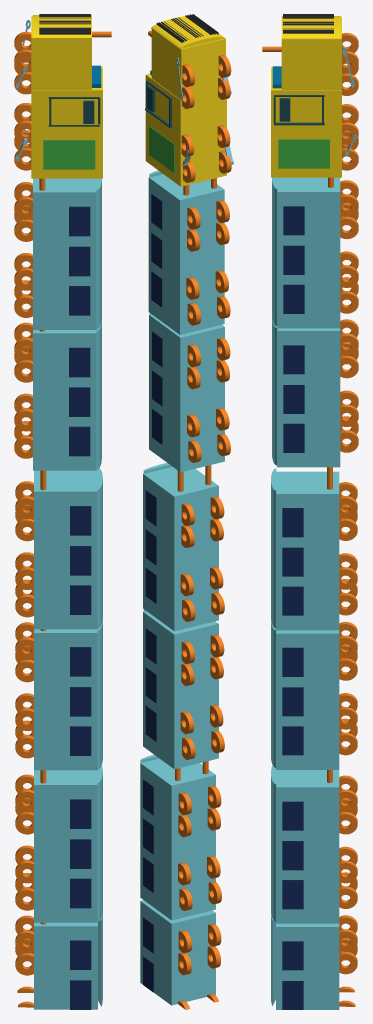
File: tinker.obj
3 renders of one model, left to right at view 1: azimuth 90°, elevation 25°; view 2: azimuth 210°, elevation 25°; view 3: azimuth 270°, elevation 25°, orthographic. The views are drawn at different scales.
Visible parts, largest first — view 1: group_0_7720667, group_0_16089887, group_0_1650274, group_0_16768282, group_0_4634441, group_0_2829873, group_0_1855578; view 2: group_0_7720667, group_0_16089887, group_0_16768282, group_0_1650274, group_0_4634441, group_0_2829873, group_0_1855578, group_0_8768998; view 3: group_0_7720667, group_0_16089887, group_0_1650274, group_0_16768282, group_0_4634441, group_0_2829873, group_0_1855578.
Part boxes in pixels (x1,y1,x2,y2): group_0_7720667: (33,178,102,1009); group_0_16089887: (14,31,111,1007); group_0_1650274: (69,206,91,1009); group_0_16768282: (31,15,102,178); group_0_4634441: (43,140,95,169); group_0_2829873: (39,14,90,34); group_0_1855578: (48,97,100,126); group_0_7720667: (140,170,224,1005); group_0_16089887: (148,30,231,1009); group_0_16768282: (145,16,226,186); group_0_1650274: (143,194,162,992); group_0_4634441: (149,126,174,173); group_0_2829873: (156,14,218,42); group_0_1855578: (145,80,172,127); group_0_8768998: (176,57,233,166); group_0_7720667: (271,177,340,1009); group_0_16089887: (262,33,358,1006); group_0_1650274: (282,206,304,1009); group_0_16768282: (271,16,341,177); group_0_4634441: (278,139,329,168); group_0_2829873: (283,14,333,33); group_0_1855578: (273,95,324,125).
Size of the model in its own units: 60 by 976 by 87.91.
